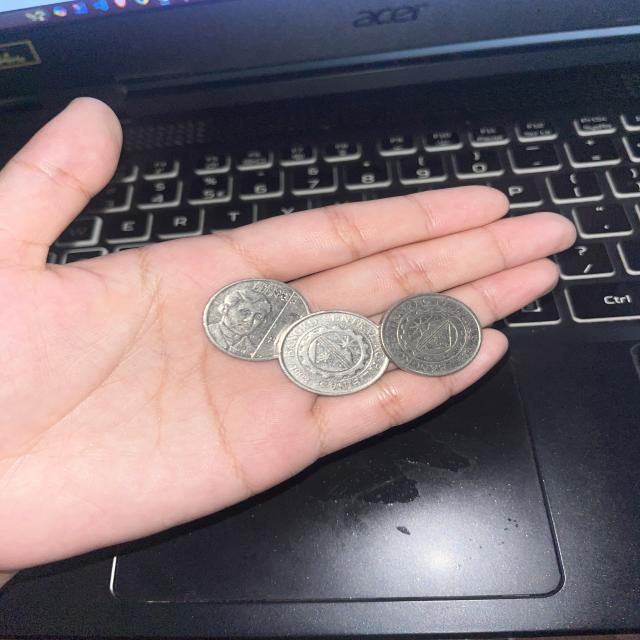1_New_Front: (210, 284, 303, 352)
1_Old_Back: (297, 319, 382, 389), (392, 303, 476, 371)
